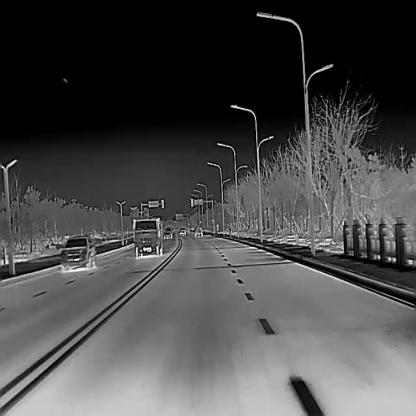car: (59, 234, 95, 271), (162, 227, 172, 238), (193, 226, 203, 236), (178, 226, 186, 236)
truck: (132, 218, 162, 256)
